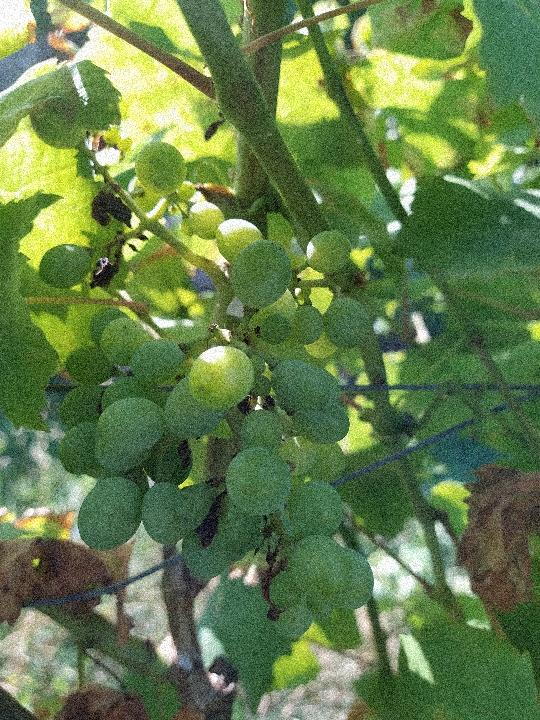grape: (28, 115, 380, 641)
